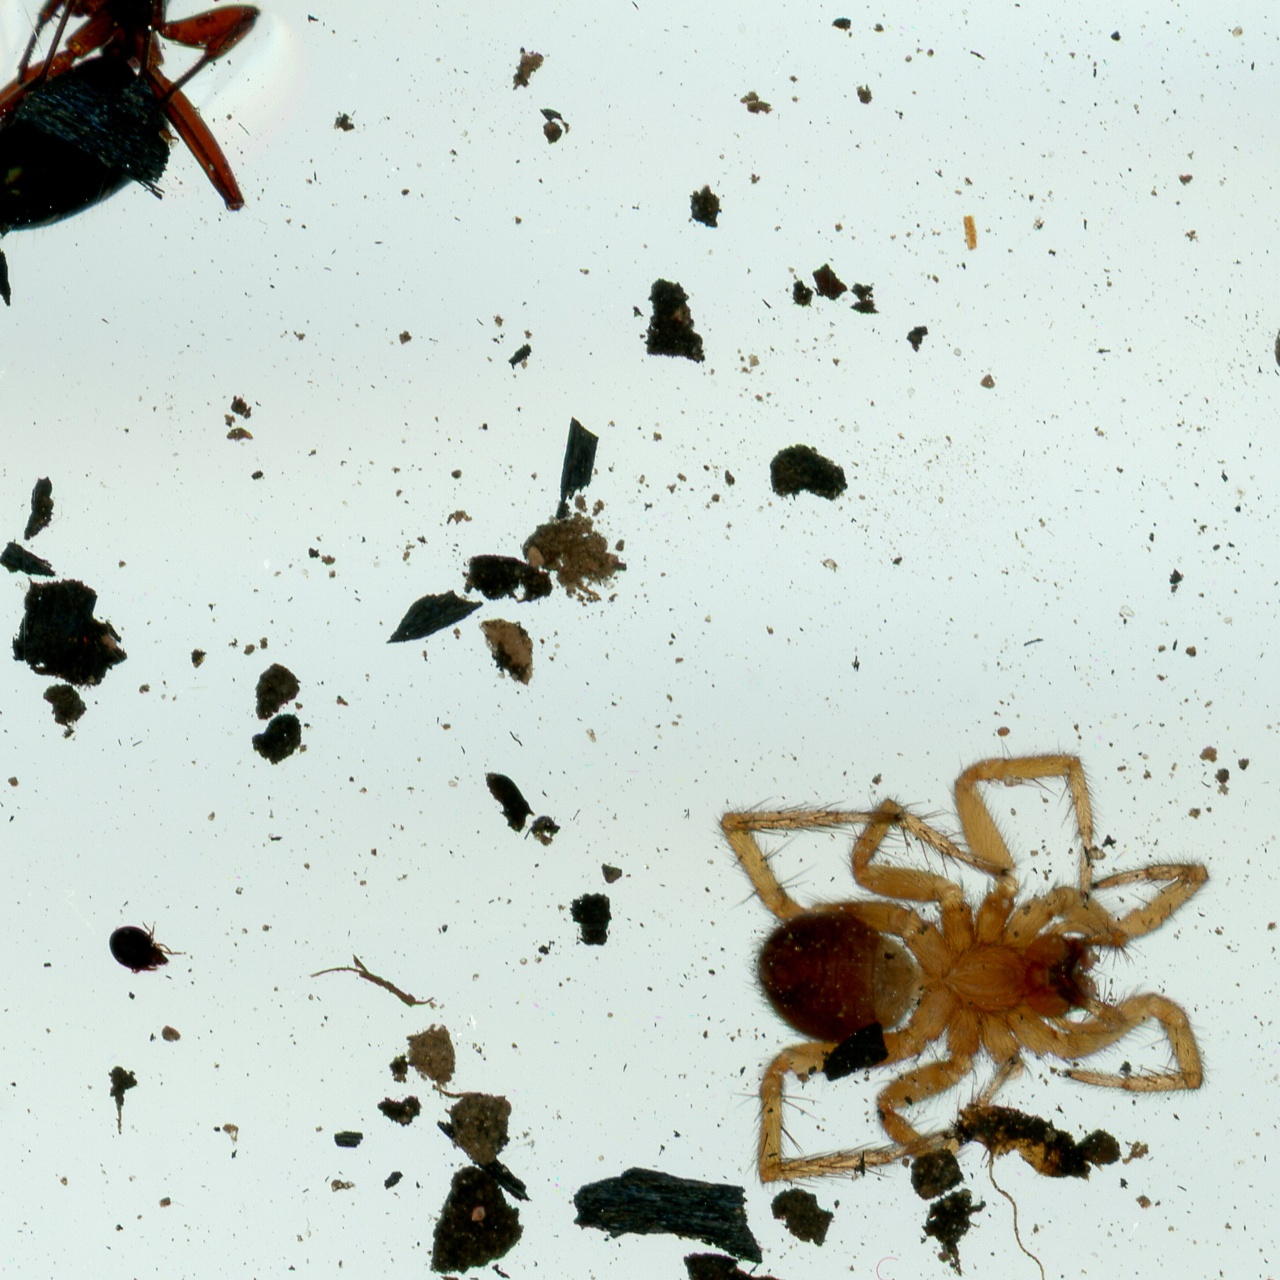arthropod: (691, 731, 1229, 1197), (0, 0, 297, 258), (101, 915, 192, 980)
